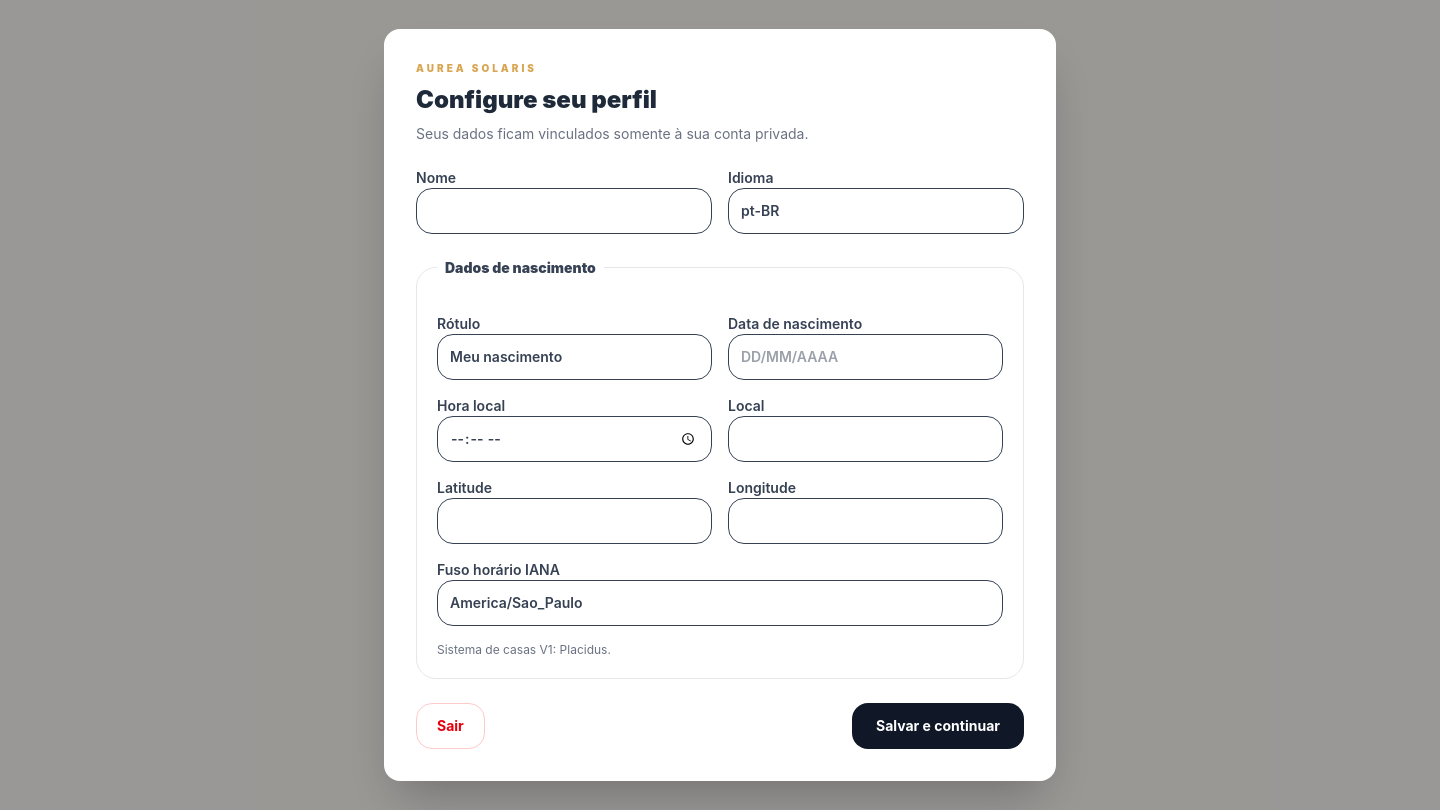
Test: ProfileOnboarding › maps server field errors to safe Portuguese text
The width and height of the screenshot is (1440, 810).
Type "Pessoa Teste" into the field named "Nome do perfil" at (564, 211), box [416, 188, 712, 234]
Type "01/01/2000" into the field labelled "Data de nascimento" at (866, 357), box [728, 334, 1003, 380]
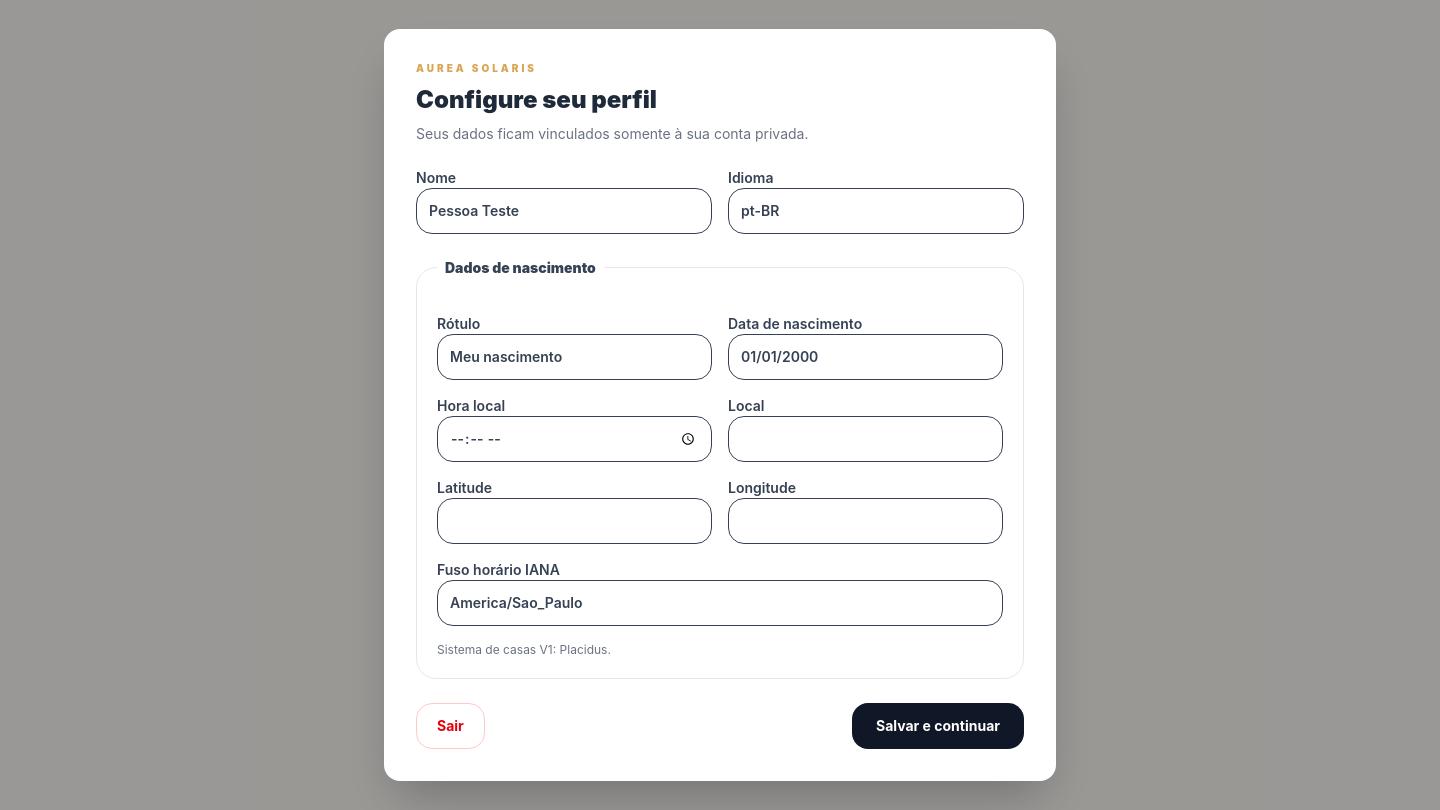
Type "12:30" into the time field named "Hora de nascimento" at (574, 439), box [437, 416, 712, 462]
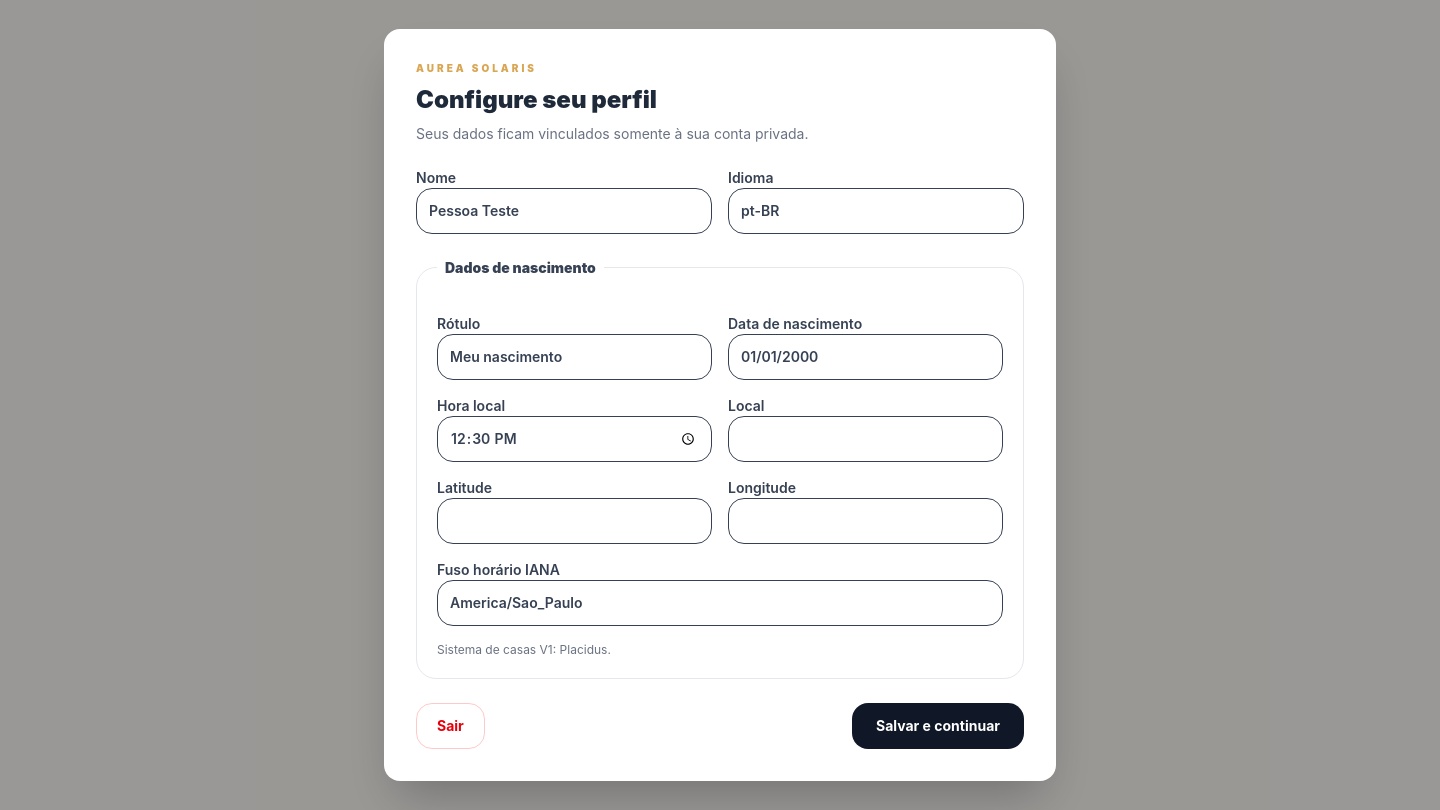
Type "São Paulo" into the field named "Local de nascimento" at (866, 439), box [728, 416, 1003, 462]
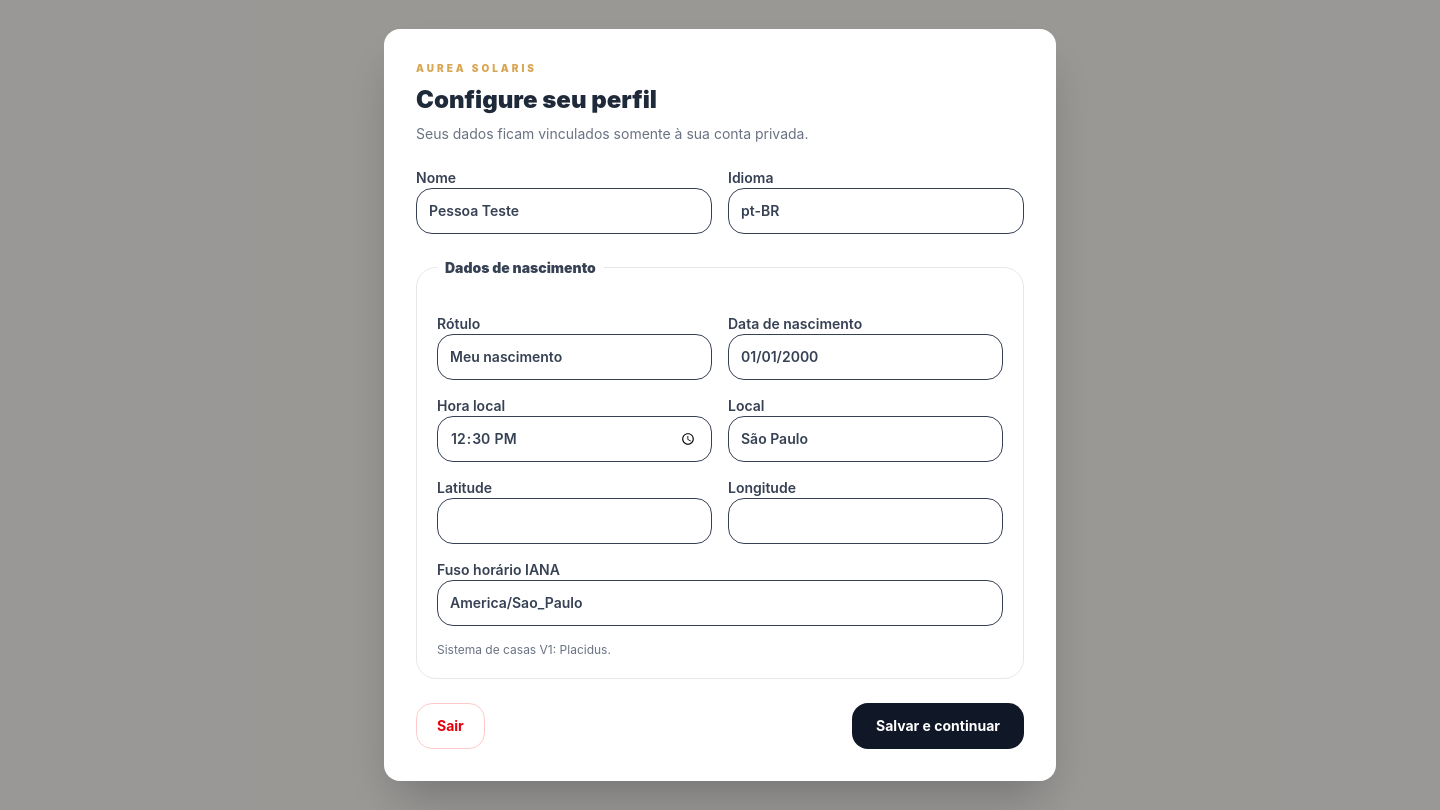
Type "0" into the field labelled "Latitude" at (574, 521), box [437, 498, 712, 544]
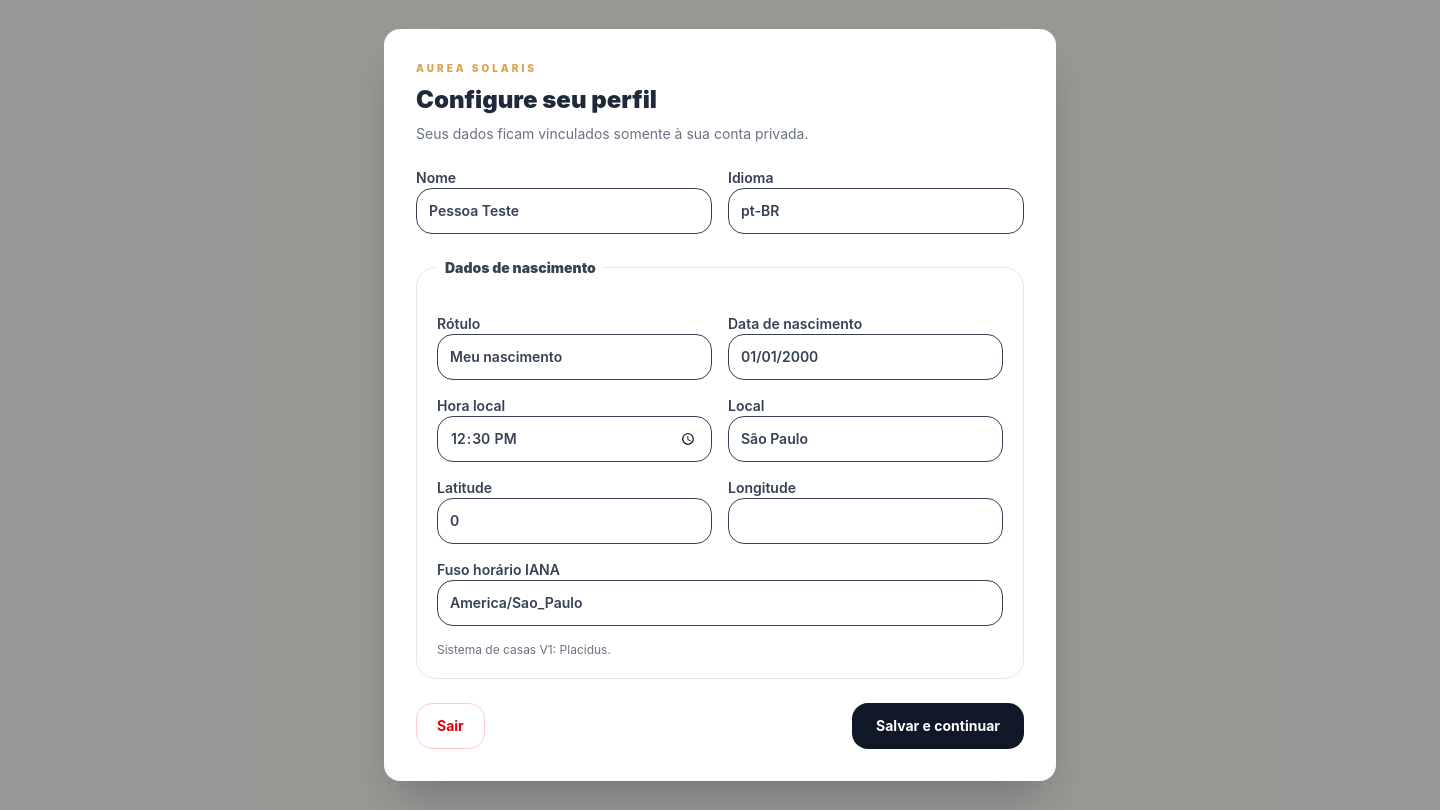
Type "0" into the field labelled "Longitude" at (866, 521), box [728, 498, 1003, 544]
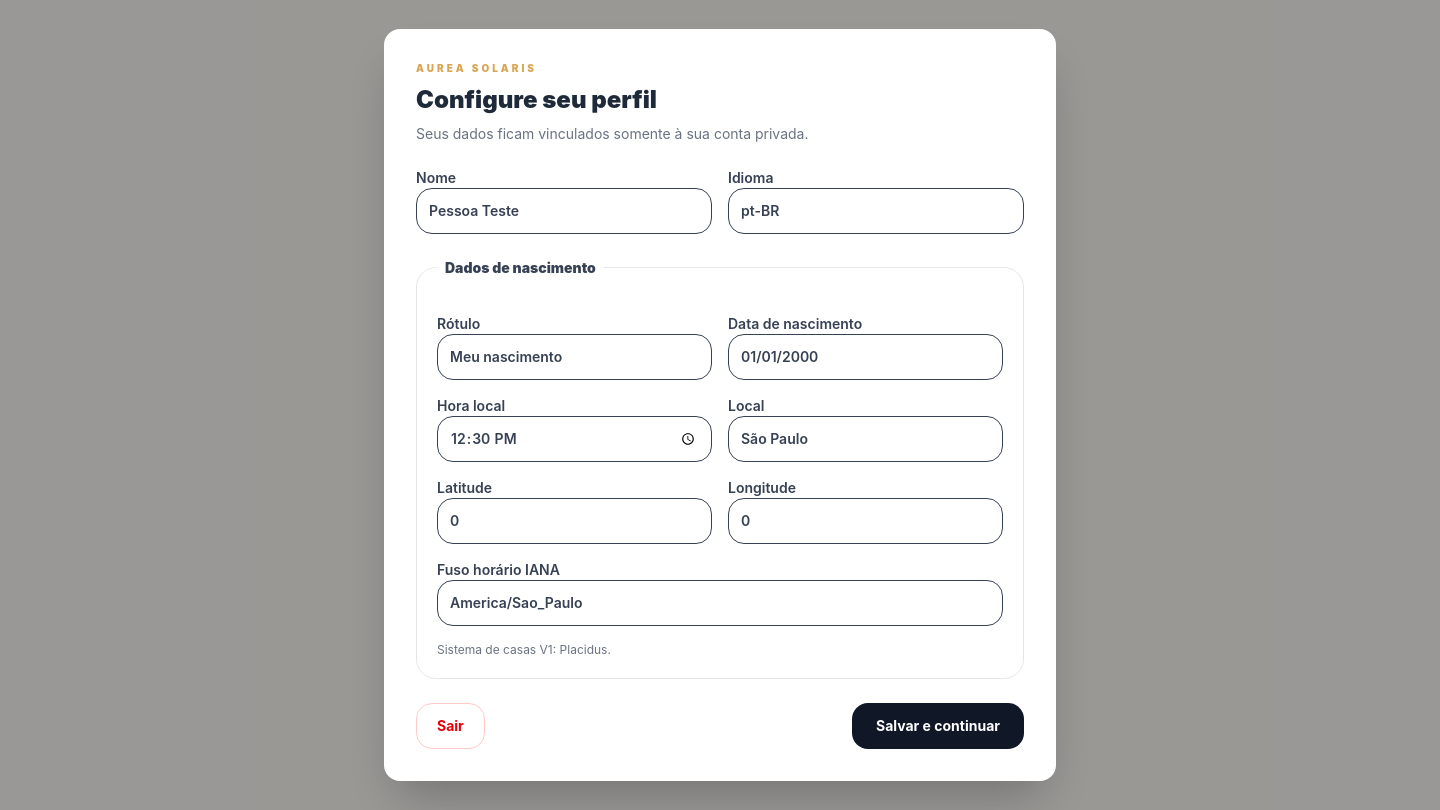
Submit the form named "Formulário de perfil", box [384, 29, 1056, 781]
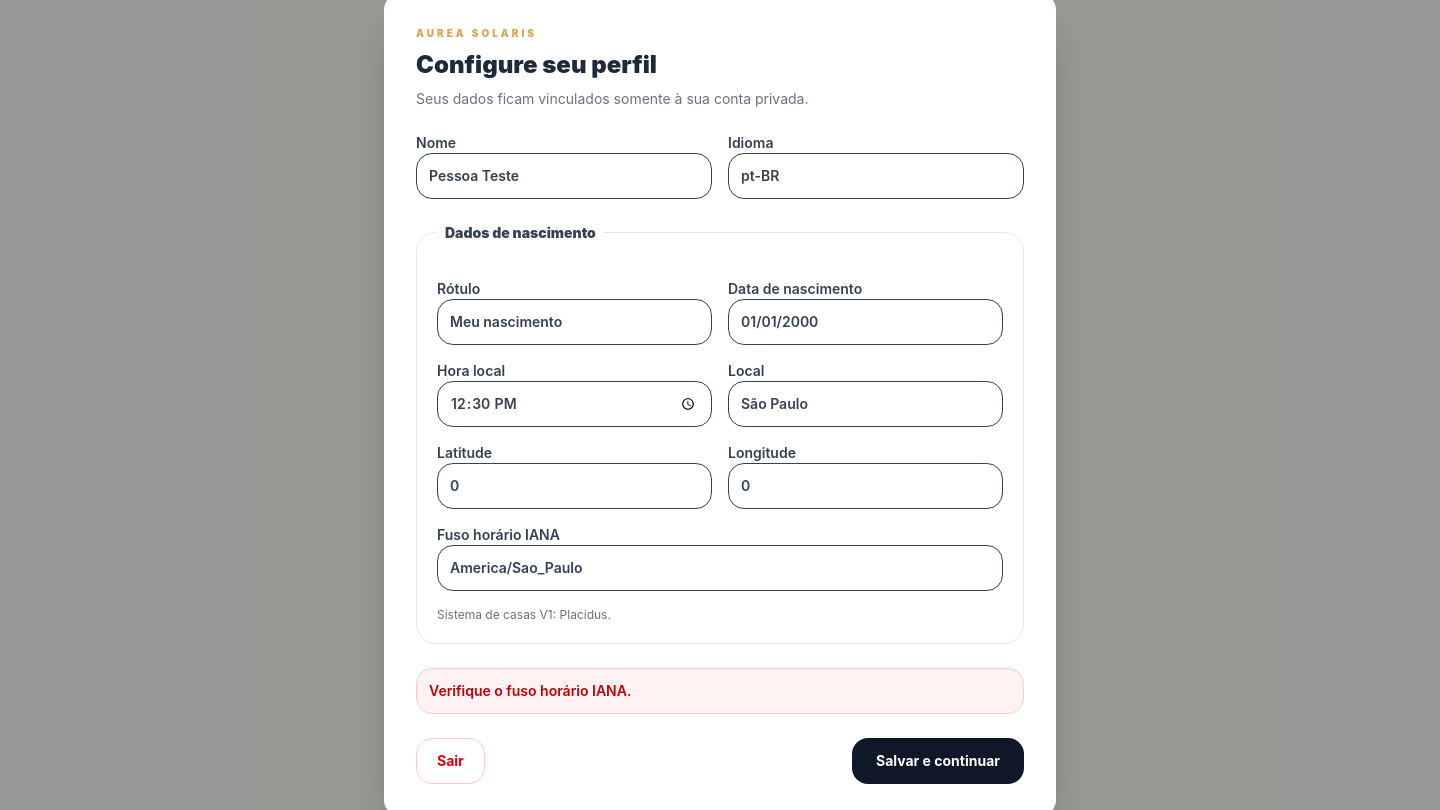
Result: the message shows "fuso horário" at [429, 682, 631, 699]
